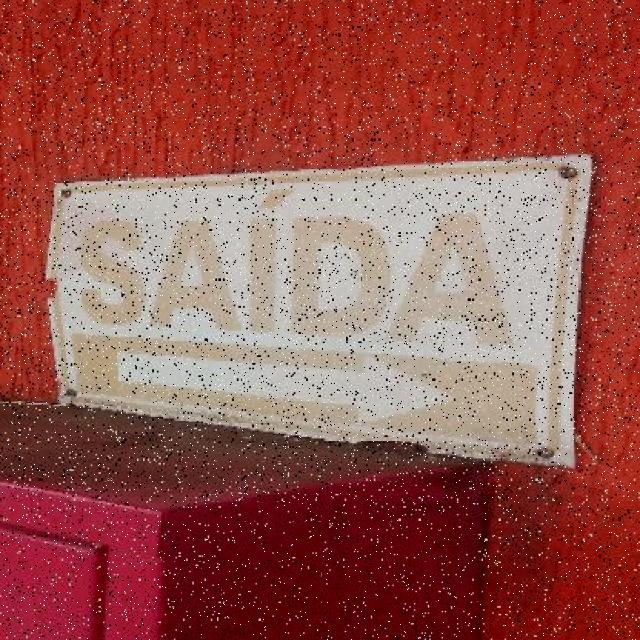emergency_exit: (45, 152, 593, 468)
